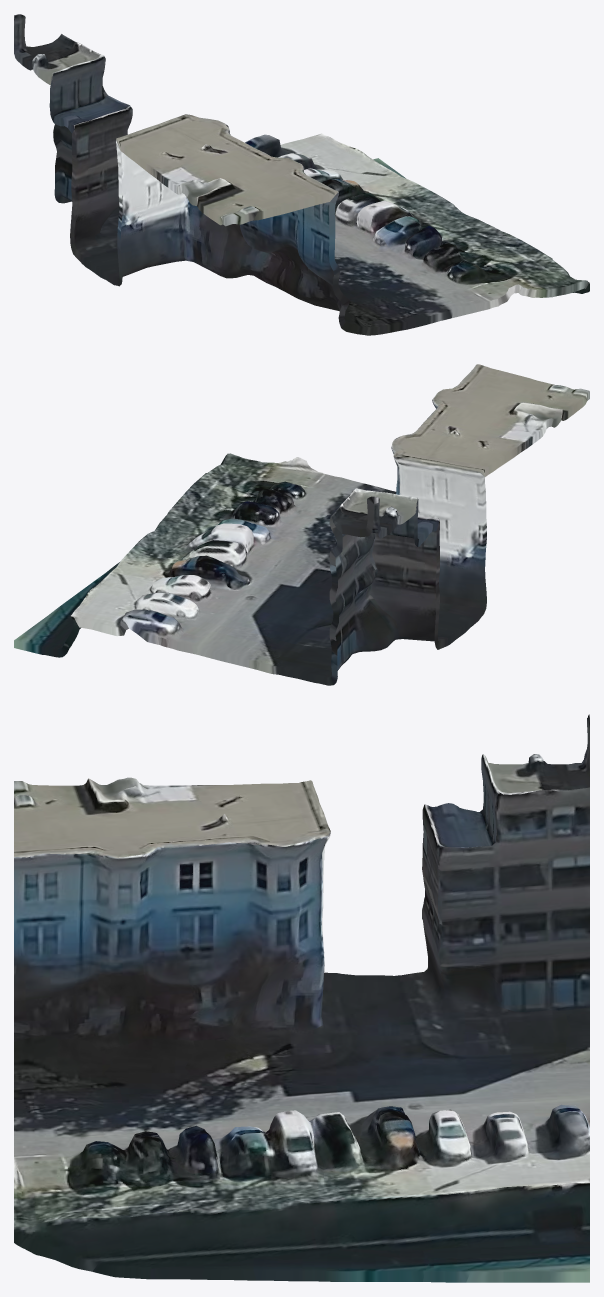
The model's file is z20-167738-405196-h0-yup-uvflip-v3-world.glb.
3 renders of one model, top to bottom at view 1: azimuth 30°, elevation 25°; view 2: azimuth 150°, elevation 25°; view 3: azimuth 270°, elevation 25°, orthographic. The views are drawn at different scales.
Bounding box in the file's own units: 30.16 × 18.96 × 30.32.
Materials: 1 (1 with a texture image).
